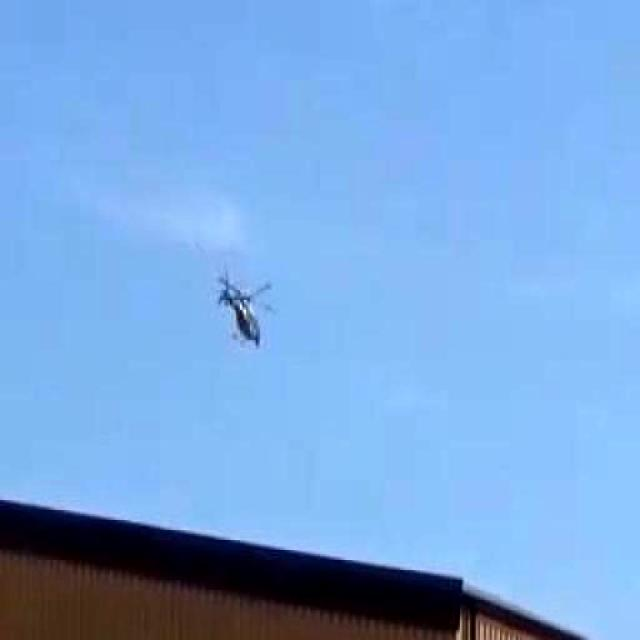drone: (179, 232, 285, 386)
